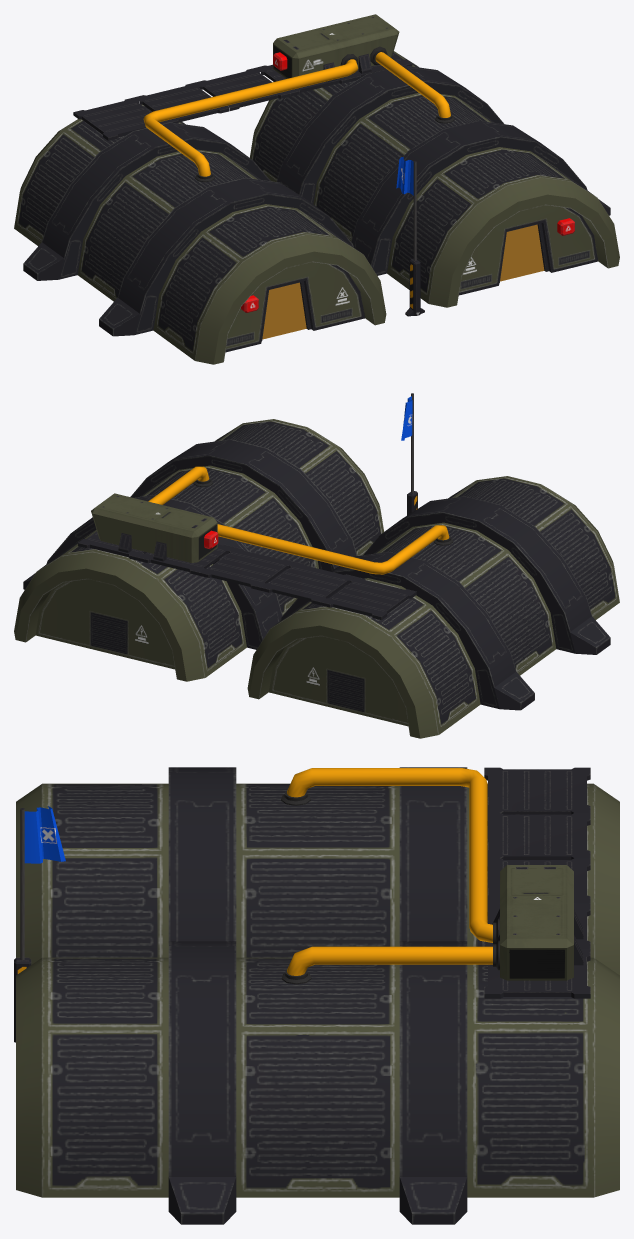
The model's file is Quarter.fbx.
3 renders of one model, top to bottom at view 1: azimuth 30°, elevation 25°; view 2: azimuth 150°, elevation 25°; view 3: azimuth 270°, elevation 25°, orthographic. The views are drawn at different scales.
Visible parts, largest first — view 1: rts-barrack; view 2: rts-barrack; view 3: rts-barrack.
Part boxes in pixels (left/top/right/bottom): rts-barrack: left=14, top=14, right=619, bottom=364; rts-barrack: left=14, top=393, right=619, bottom=738; rts-barrack: left=14, top=767, right=619, bottom=1224.
Bounding box in the file's own units: 1676 × 488 × 1159.
1 material, 1 textured.
